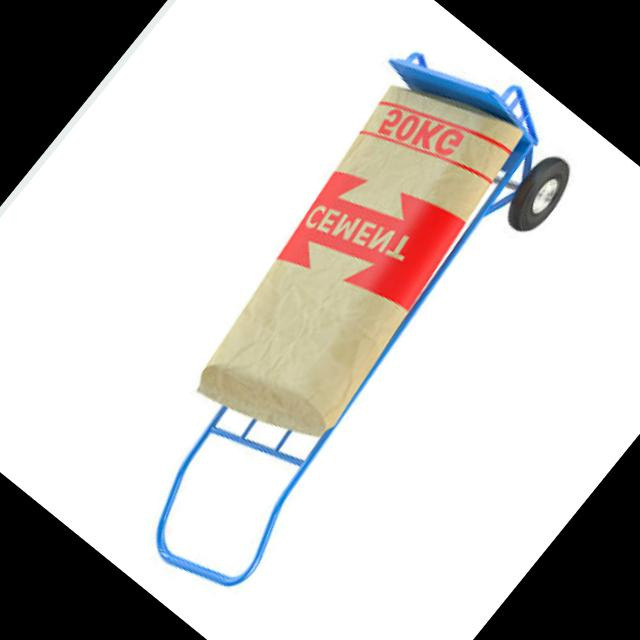KantongSemen: (159, 45, 554, 476)
